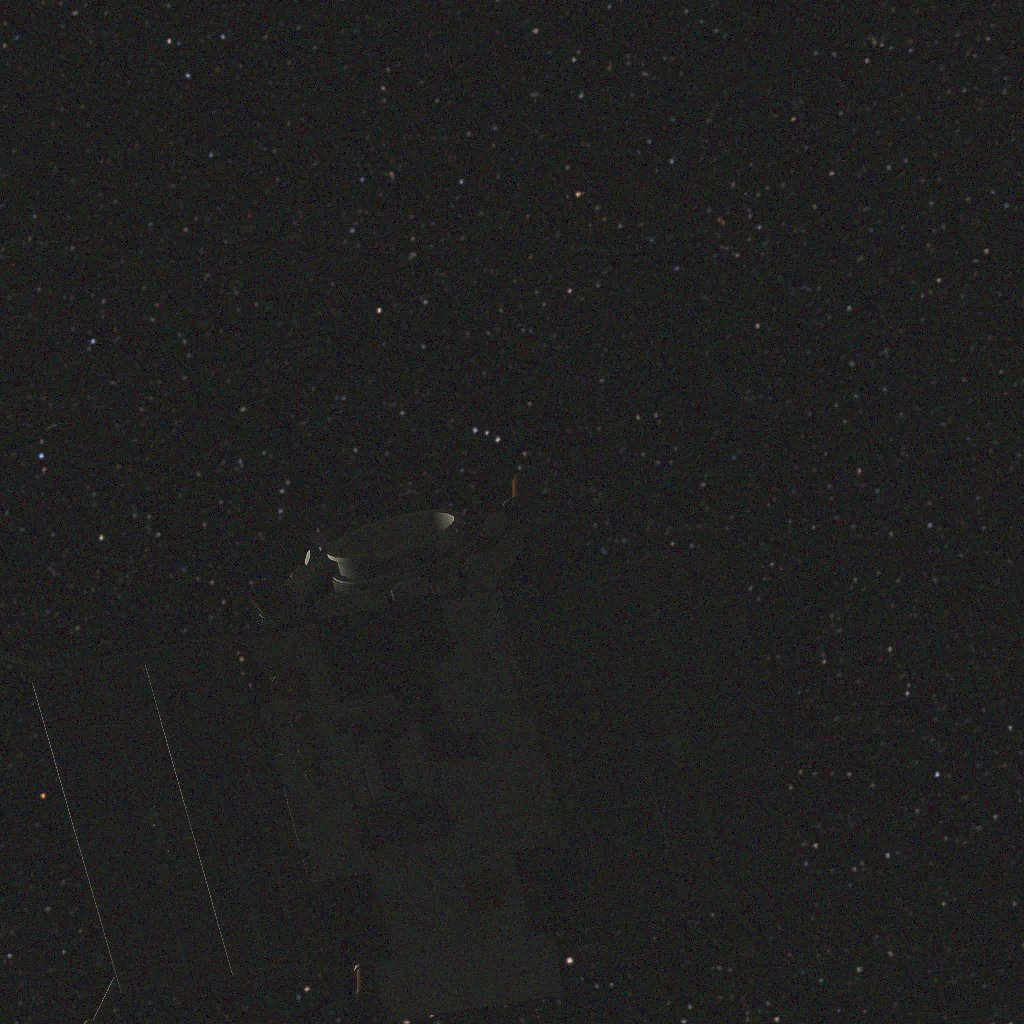proba_2: (0, 474, 809, 1024)
